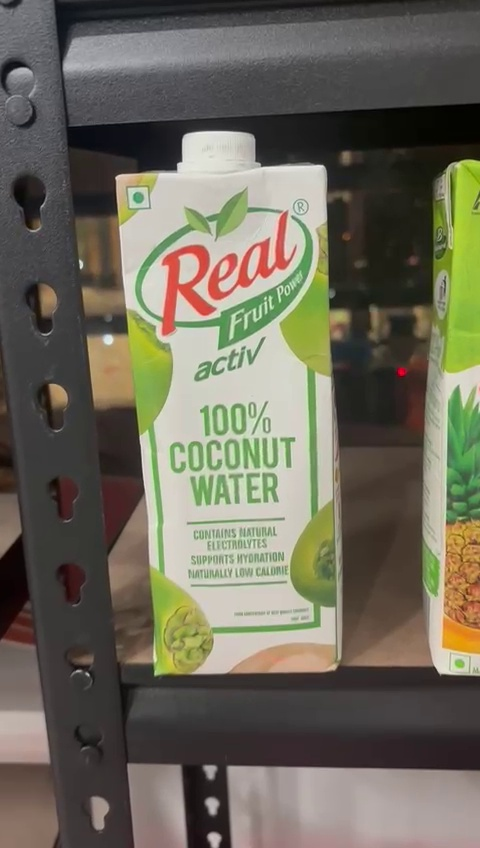Coconut water: (114, 136, 336, 676)
